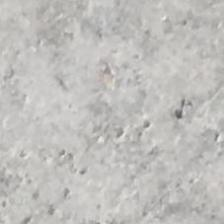Non_Crack: (32, 16, 199, 167)
